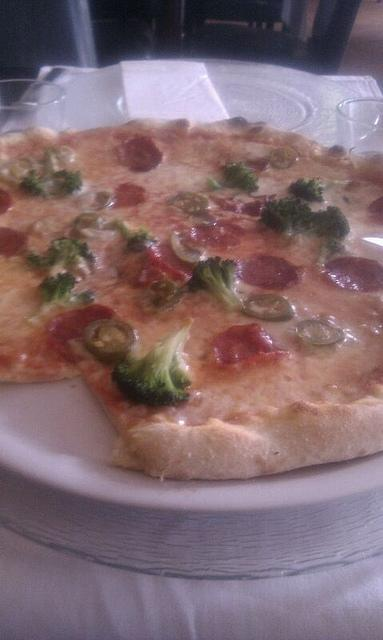broccoli: (114, 317, 194, 405), (25, 272, 95, 332), (21, 146, 82, 198), (188, 256, 243, 310), (260, 197, 318, 241), (28, 237, 92, 266), (300, 206, 350, 243), (207, 162, 260, 192), (114, 220, 158, 253), (288, 175, 326, 202), (315, 237, 345, 268)
